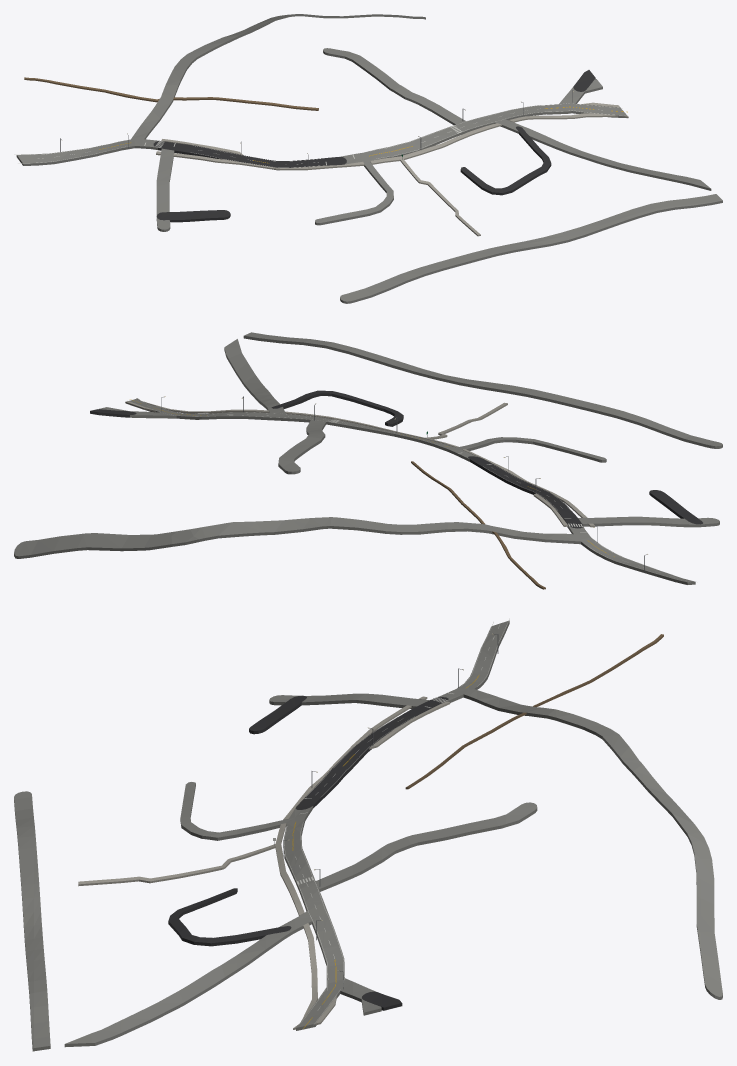
The picture shows the model from 3 angles, top to bottom: view 1: azimuth 30°, elevation 25°; view 2: azimuth 150°, elevation 25°; view 3: azimuth 270°, elevation 25°; orthographic projection. The views are drawn at different scales.
Size of the model in its own units: 298 by 40.72 by 245.
